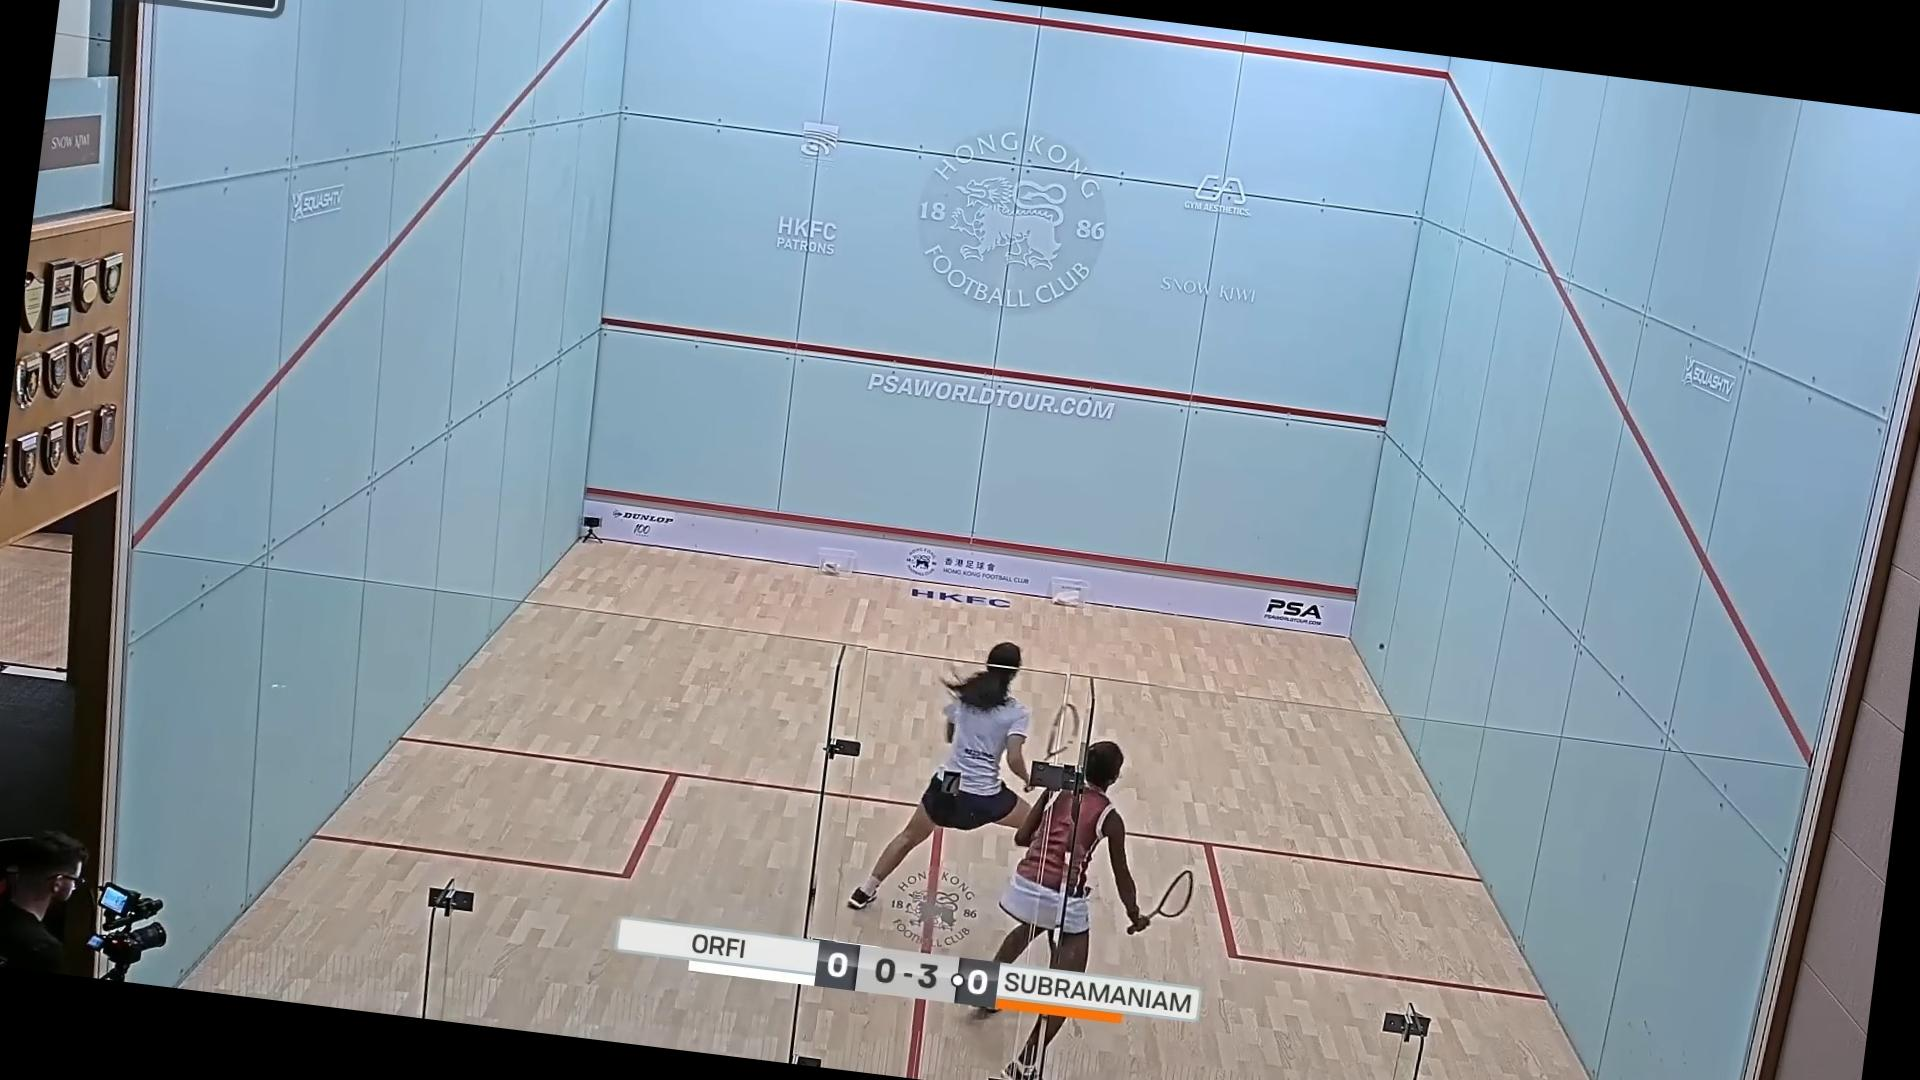Squash-Ball: (1365, 625, 1396, 667)
